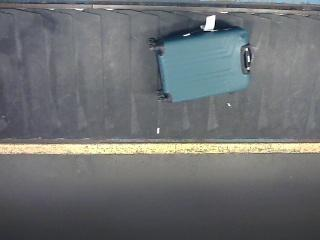Suitcase: (140, 12, 266, 106)
